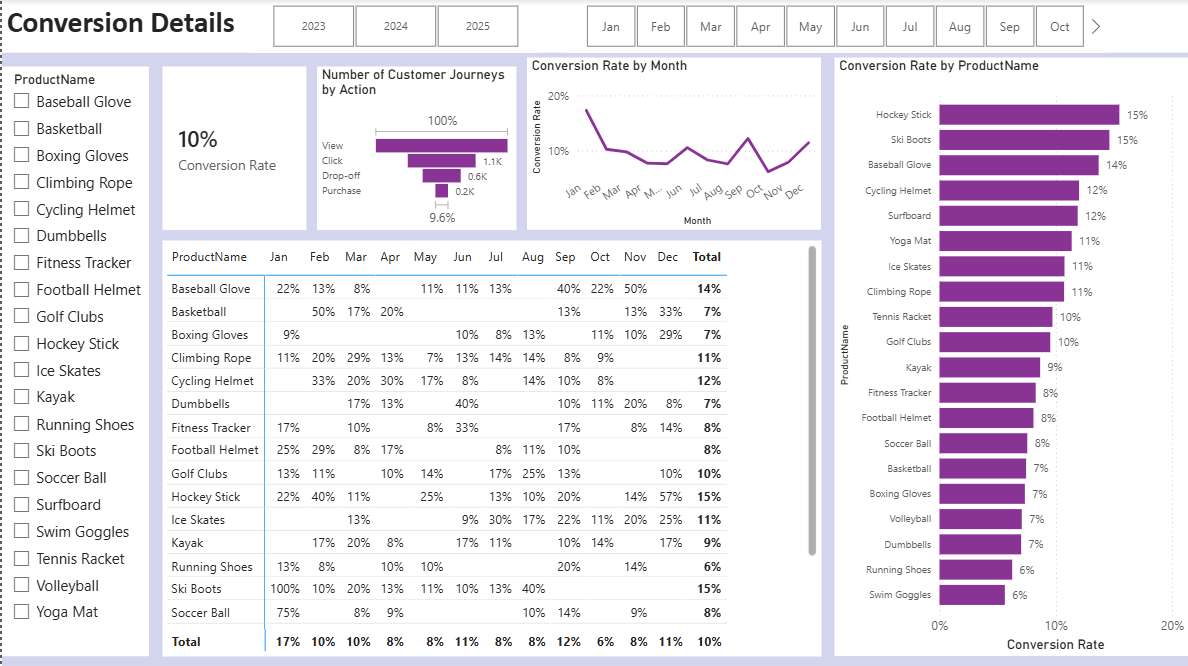

Layout of this report page (visuals, bound fields, positions):
{"tool":"powerbi","page":{"name":"Conversion Details","canvas":[1280,720],"ordinal":1},"visuals":[{"type":"textbox","box":[0,0,1280.8,58.3],"z":0},{"type":"slicer","fields":{"Values":["products_dim.ProductName"]},"box":[0,72.9,158.7,636.4],"z":1000},{"type":"cardVisual","fields":{"Data":["_Calculations.Conversion Rate"]},"box":[173.3,72.9,155.4,176.5],"z":2000},{"type":"slicer","fields":{"Values":["Calendar.Year"]},"box":[267.2,0,314.1,58.3],"z":3000},{"type":"slicer","fields":{"Values":["Calendar.MonthNameShort"]},"box":[605.6,0,586.2,58.3],"z":4000},{"type":"lineChart","fields":{"Category":["Calendar.MonthNameShort"],"Y":["_Calculations.Conversion Rate"]},"box":[566.7,63.1,317.4,186.2],"z":5000},{"type":"clusteredBarChart","fields":{"Category":["products_dim.ProductName"],"Y":["_Calculations.Conversion Rate"]},"box":[898.7,63.1,382.1,646.1],"z":6000},{"type":"pivotTable","fields":{"Columns":["Calendar.MonthNameShort"],"Rows":["products_dim.ProductName"],"Values":["_Calculations.Conversion Rate"]},"box":[173.3,260.7,710.8,448.5],"z":7000},{"type":"funnel","fields":{"Category":["customer_journey_cleaned.Action"],"Y":["_Calculations.Number of Customer Journeys"]},"box":[340,72.9,215.4,176.5],"z":8000}]}

Visuals, with their boxes in screenshot pixels (x1, y1, x2, y2), scaled from the page's 1280x720 canvas onto the 1188x666 screenshot:
textbox: select_region(0, 0, 1187, 54)
slicer - products_dim.ProductName: select_region(0, 67, 147, 656)
cardVisual - _Calculations.Conversion Rate: select_region(161, 67, 305, 231)
slicer - Calendar.Year: select_region(248, 0, 540, 54)
slicer - Calendar.MonthNameShort: select_region(562, 0, 1106, 54)
lineChart - Calendar.MonthNameShort x _Calculations.Conversion Rate: select_region(526, 58, 821, 231)
clusteredBarChart - products_dim.ProductName x _Calculations.Conversion Rate: select_region(834, 58, 1187, 656)
pivotTable - Calendar.MonthNameShort x products_dim.ProductName: select_region(161, 241, 821, 656)
funnel - customer_journey_cleaned.Action x _Calculations.Number of Customer Journeys: select_region(316, 67, 515, 231)
